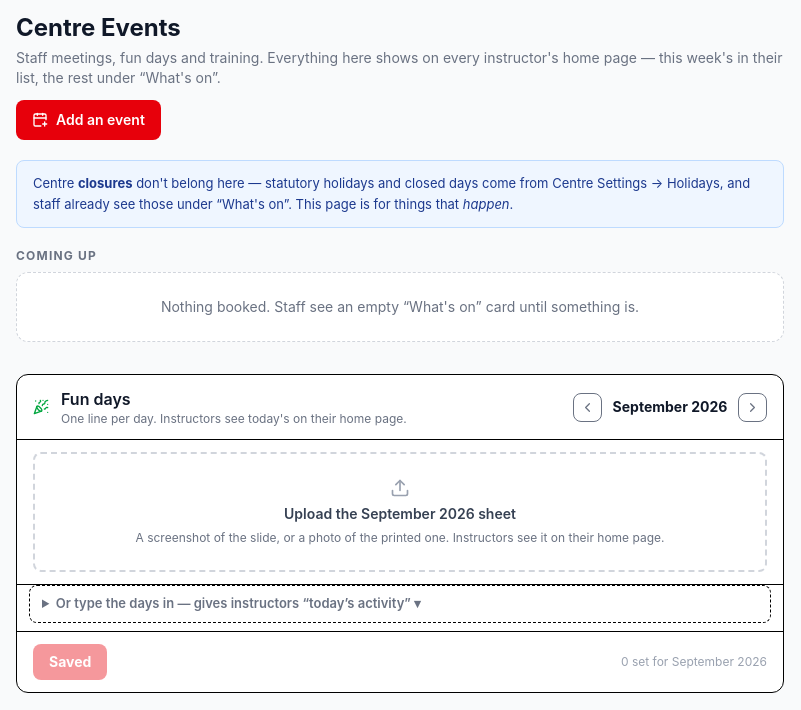
Test: it renders › steps months without falling over
Step 1. Click the button titled "Next month" → (752, 407), box [738,393,767,422]
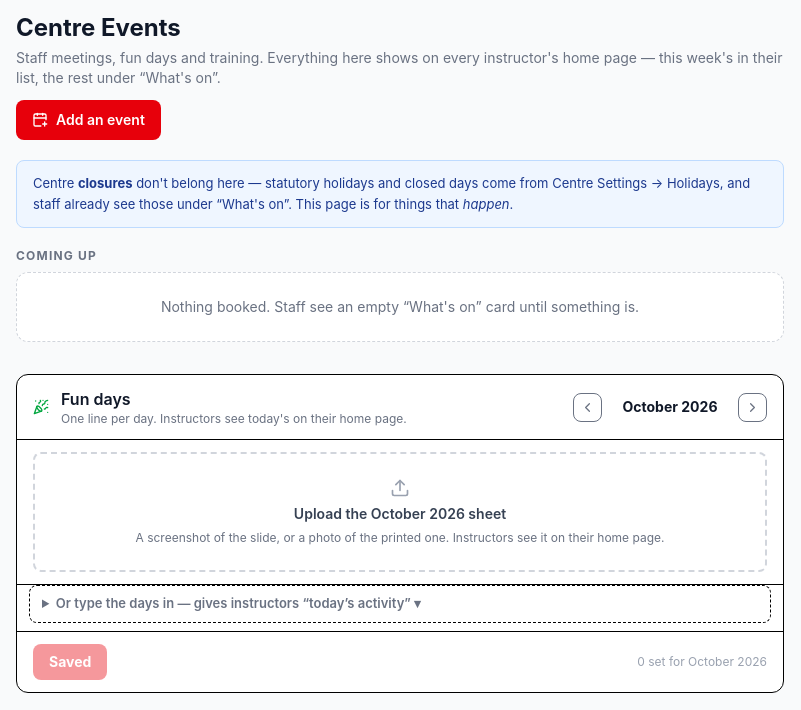
Expected: the text "Upload the October 2026 sheet" is shown, [294,504,506,524]
Step 2. Click the button titled "Previous month" → (588, 407), box [573,393,602,422]
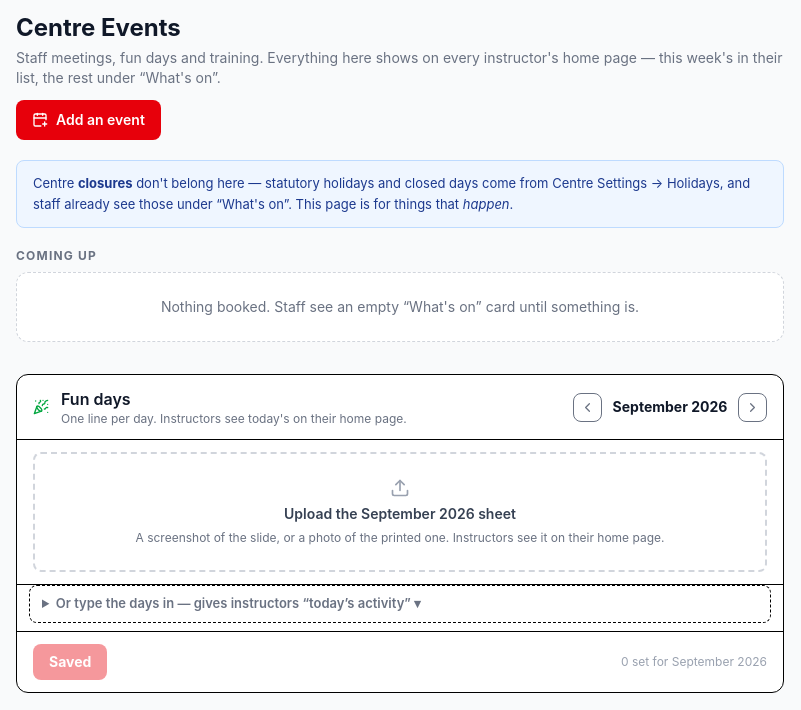
Step 3. Click the button titled "Previous month" → (588, 407), box [573,393,602,422]
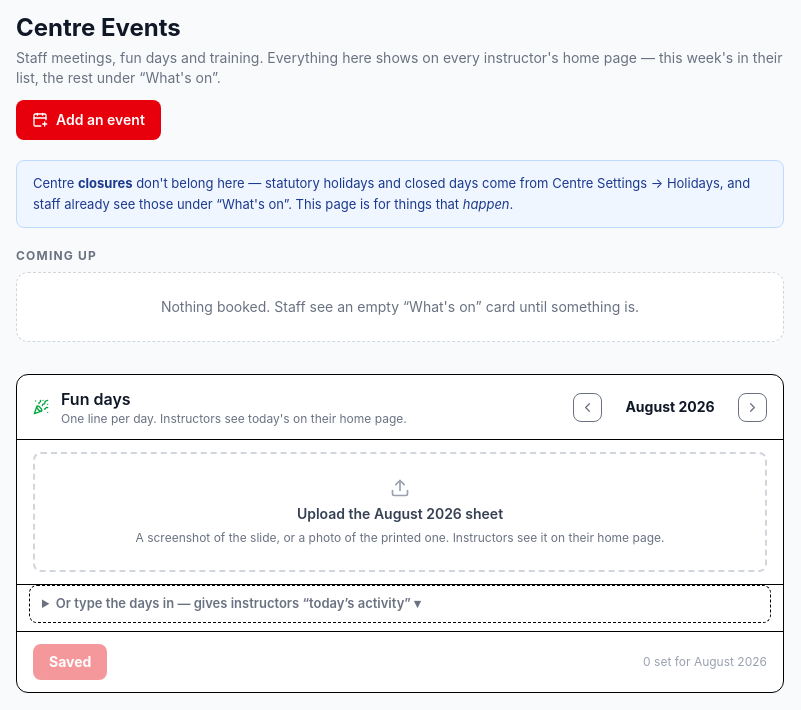
Expected: the text "Upload the August 2026 sheet" is shown, [297,504,503,524]
